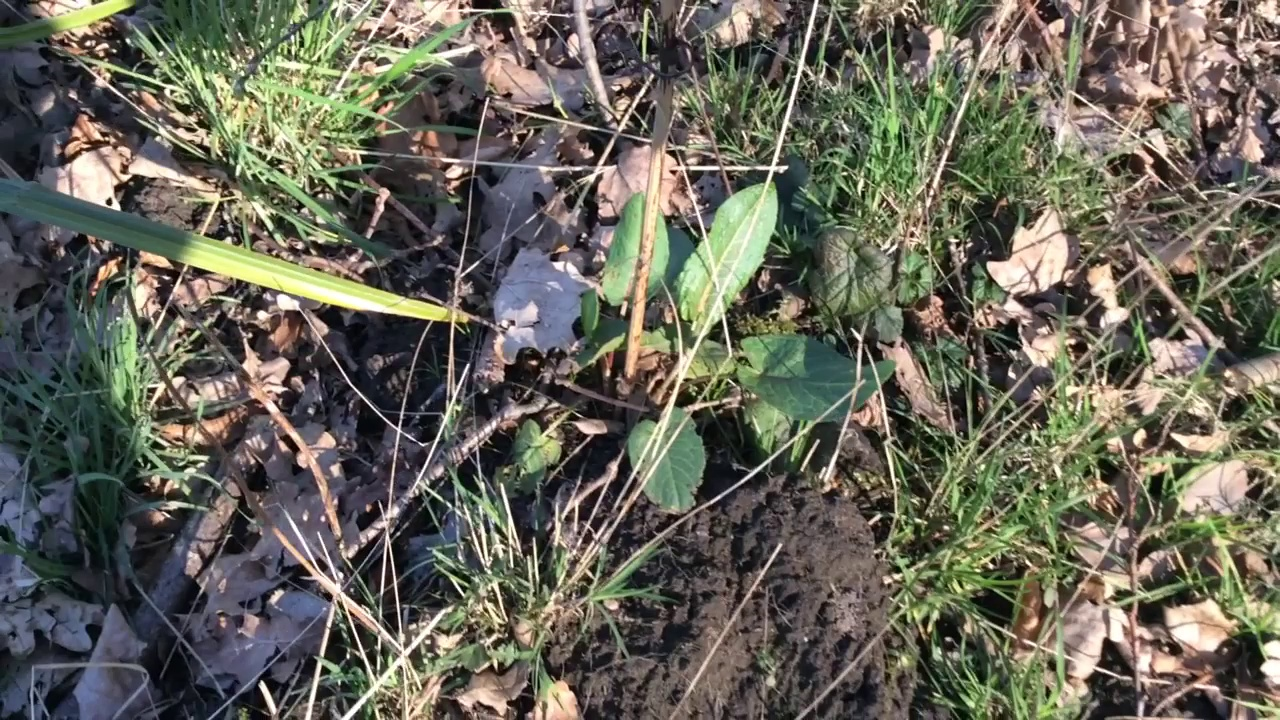rumex: (497, 181, 895, 515)
